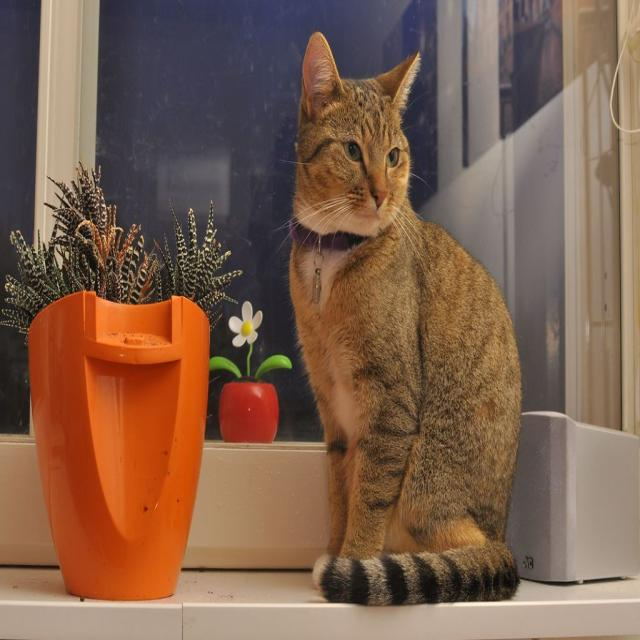Cat: (268, 30, 524, 604)
